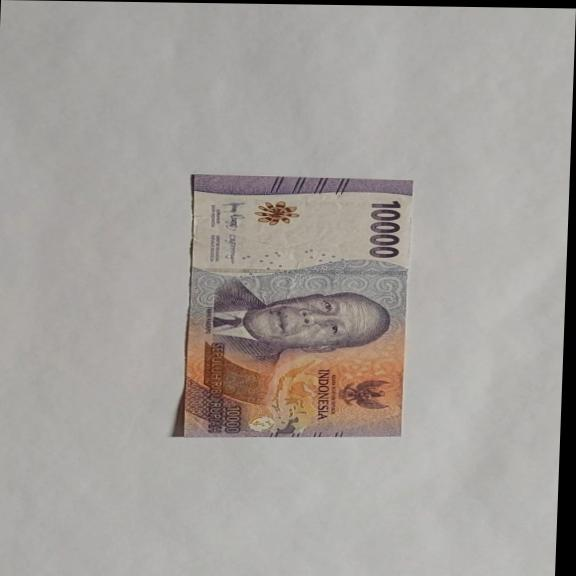Kertas: (176, 174, 416, 440), (366, 199, 404, 259)
